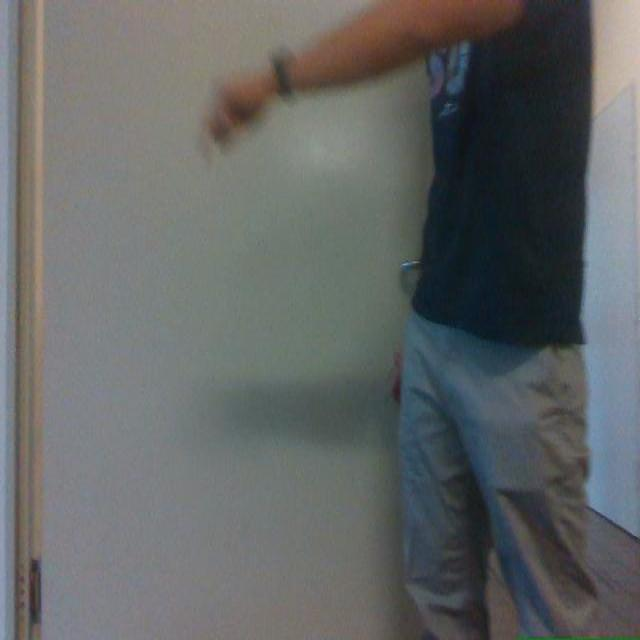humans: (208, 0, 597, 639)
objects: (19, 0, 431, 639)
